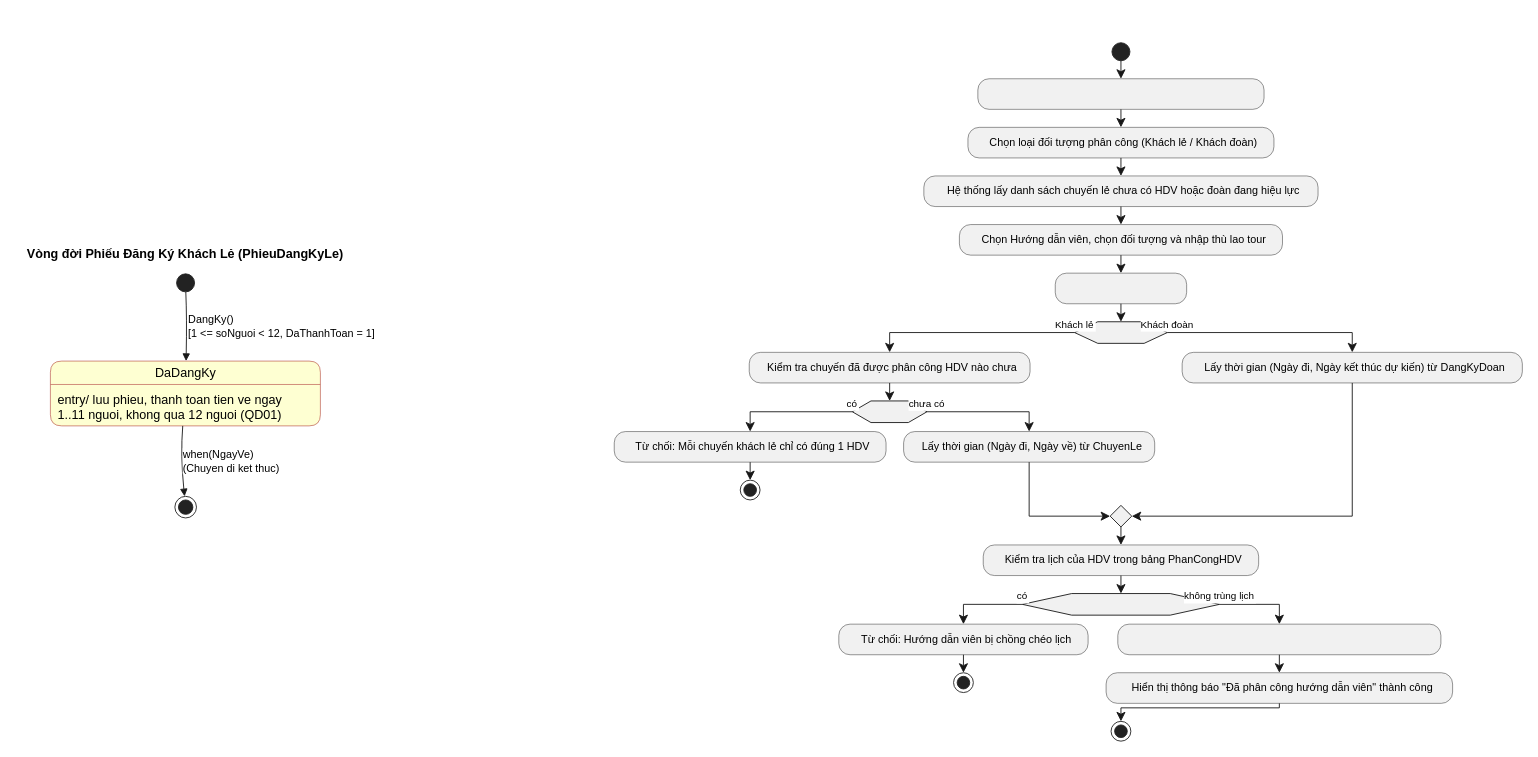
Some shapes in this 1538 by 757 pixel diagram are drawn without their labels. The shapes that lost their labels are listed below. From the top down, each one's centre as x and y in pixels, then its label:
(x=1120, y=93): Nhân viên điều hành mở chức năng Phân công HDV
(x=1120, y=288): Nhấn nút "Phân công"
(x=1120, y=332): Loại đối tượng?
(x=889, y=411): Đã có HDV?
(x=1121, y=604): Bị trùng lịch làm việc với tour khác?
(x=1279, y=639): Lưu thông tin phân công vào cơ sở dữ liệu (PhanCongHDV)
